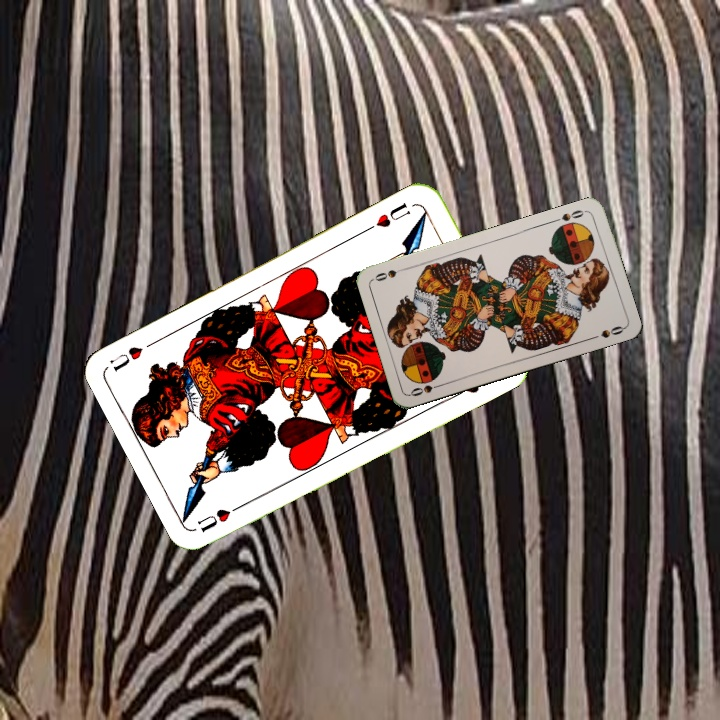HU: (193, 499, 248, 535), (363, 198, 413, 234)
SO: (406, 379, 446, 399), (550, 206, 590, 225)
